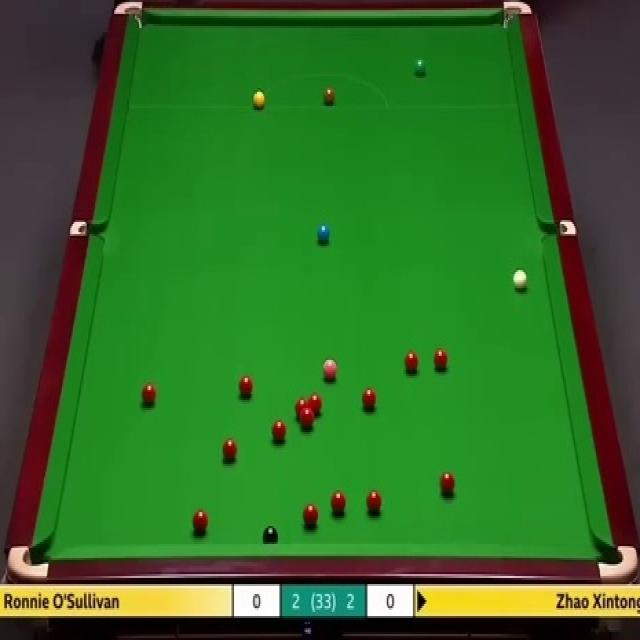black-ball: (262, 526, 279, 545)
blue-ball: (316, 220, 330, 245)
brown-ball: (323, 88, 335, 106)
green-ball: (412, 58, 427, 78)
pink-ball: (323, 354, 338, 382)
red-ball: (403, 349, 420, 378), (440, 471, 456, 499), (192, 509, 209, 534), (366, 489, 382, 515), (239, 377, 255, 401), (221, 438, 237, 462), (331, 491, 346, 516), (433, 349, 448, 374), (361, 387, 376, 412), (304, 503, 318, 528), (272, 419, 286, 443), (308, 394, 322, 418), (142, 382, 156, 405), (301, 410, 314, 430), (295, 398, 308, 418)
white-ball: (512, 267, 530, 295)
yellow-ball: (252, 89, 265, 109)
